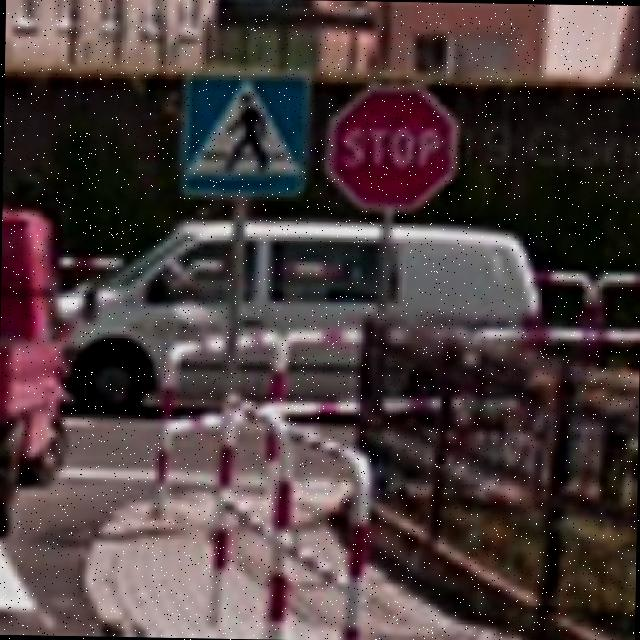Przejscie dla pieszych: (177, 68, 312, 201)
Stop: (324, 82, 462, 215)
